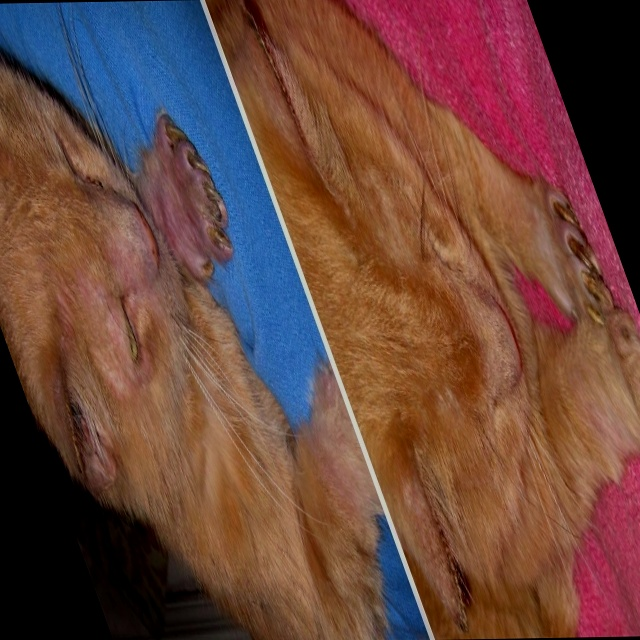ringworm: (133, 132, 216, 261), (63, 265, 139, 387)
